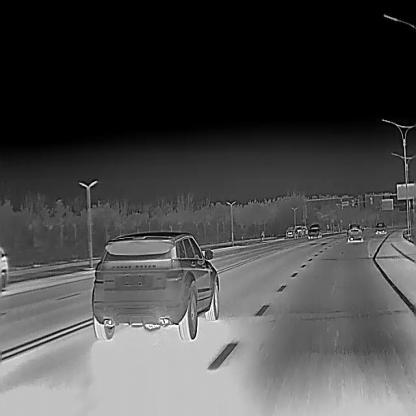car: (91, 229, 221, 340), (347, 224, 364, 242), (307, 223, 321, 238), (375, 222, 387, 234), (286, 226, 297, 237), (295, 225, 304, 237)
